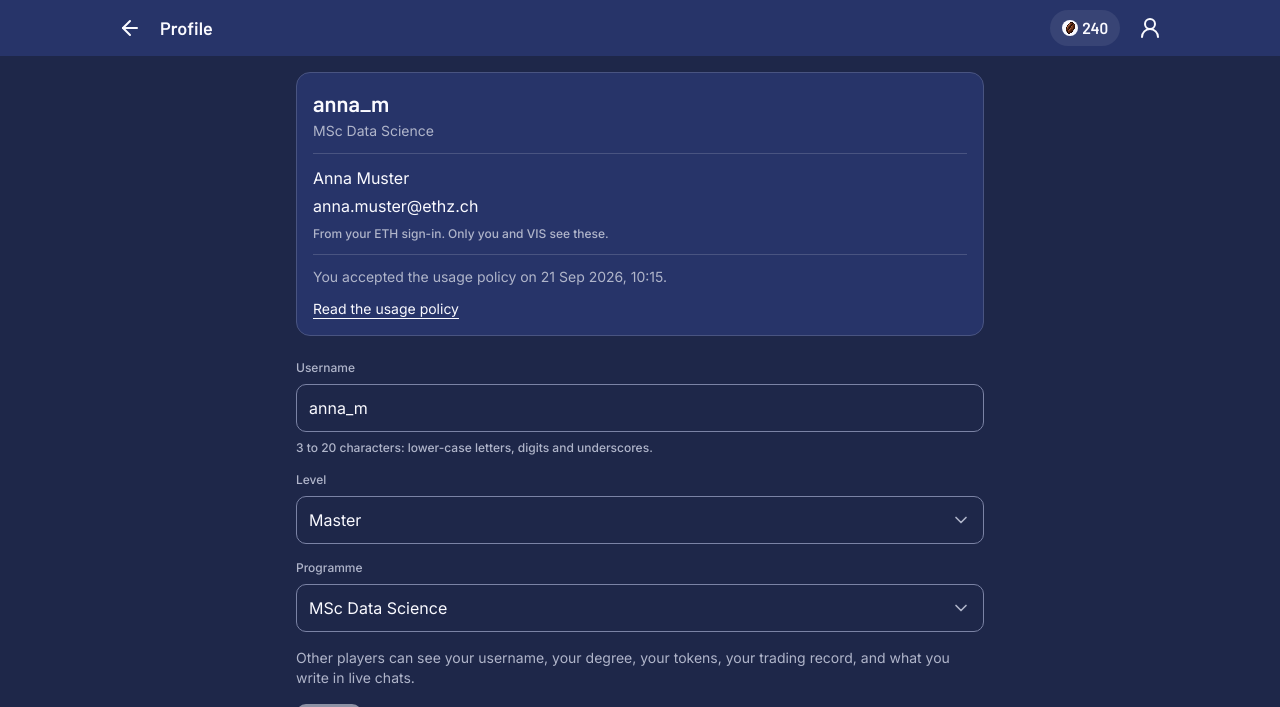
Test case: saving › sends the three fields, says Profile saved, stays on the screen and shows the saved profile
In the field labelled "Username": x=640, y=408 [296,384,984,432], type "2"
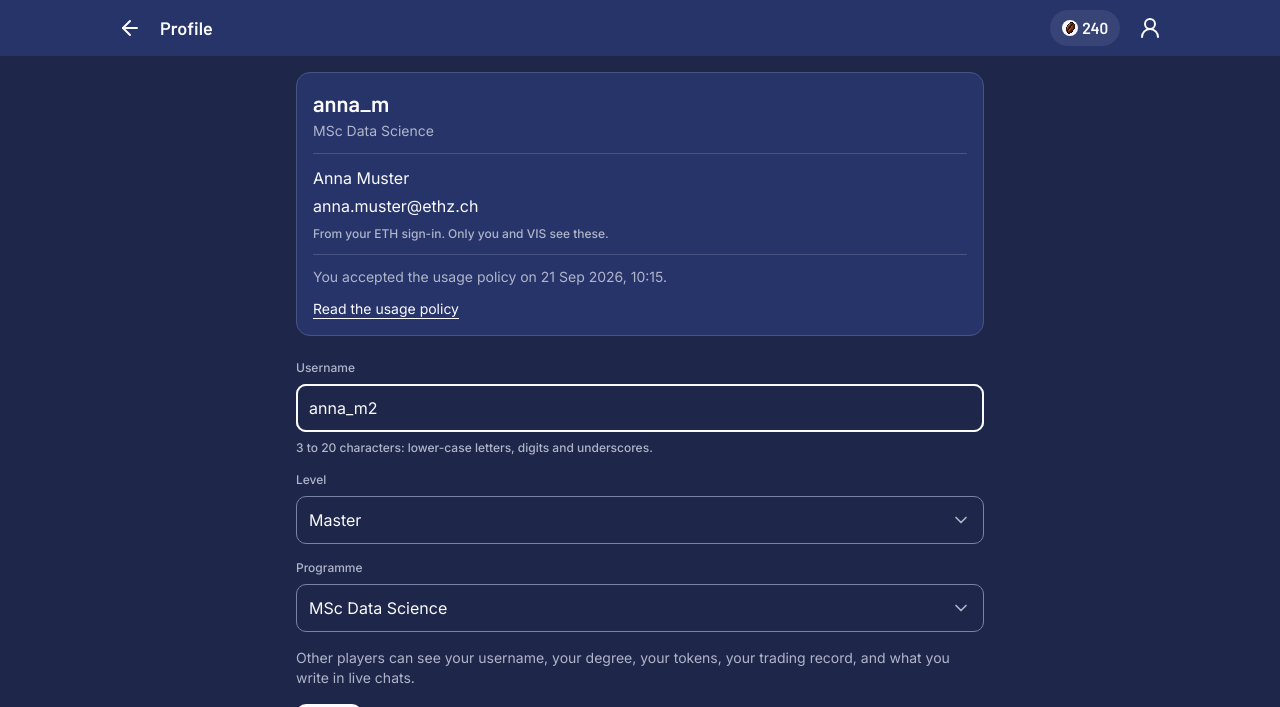
Click the button with aria-label "Programme": x=378, y=608 [296,584,984,632]
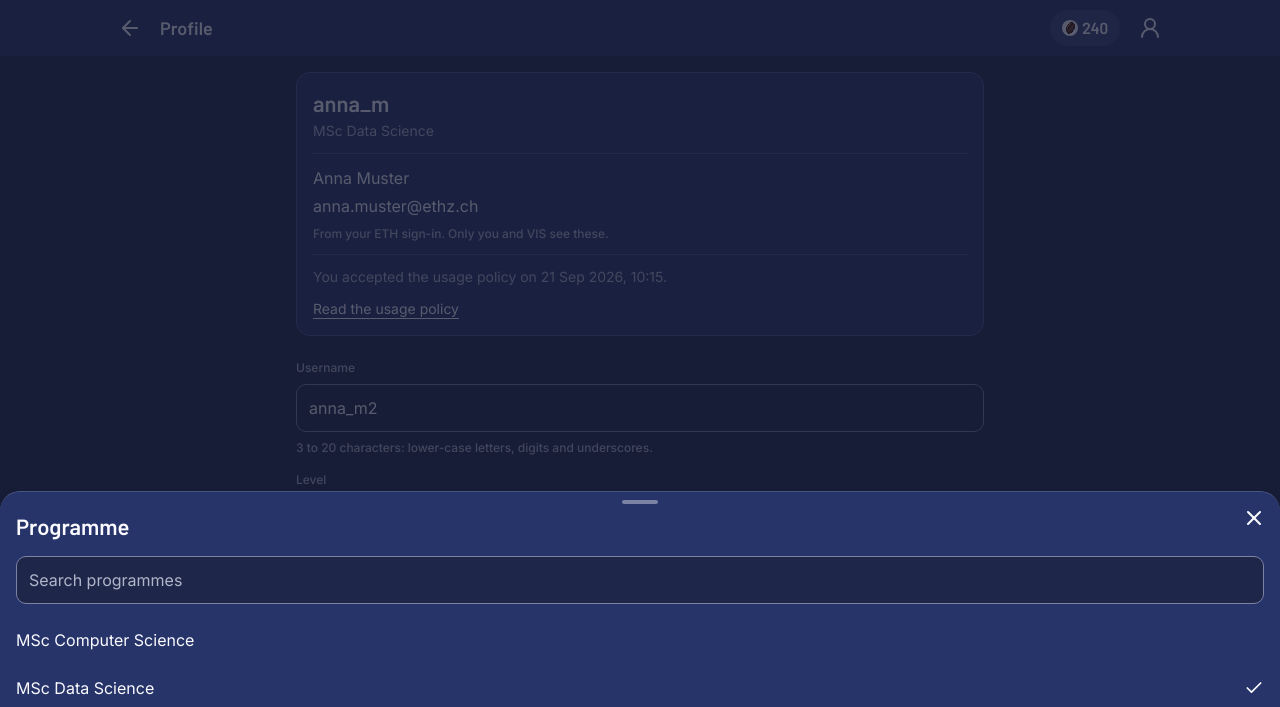
Click the option "MSc Computer Science": x=105, y=640 [16,630,194,650]
(page scrolled)
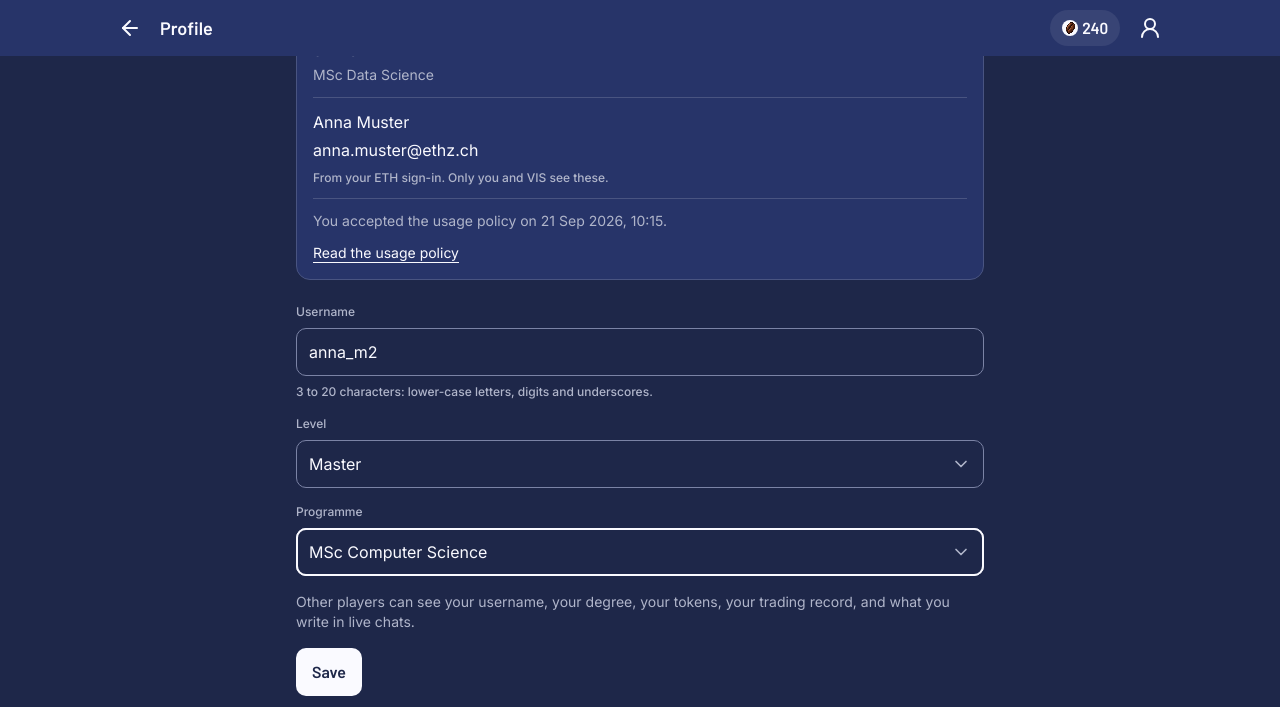
Click the button "Save": x=329, y=672 [296,648,362,696]
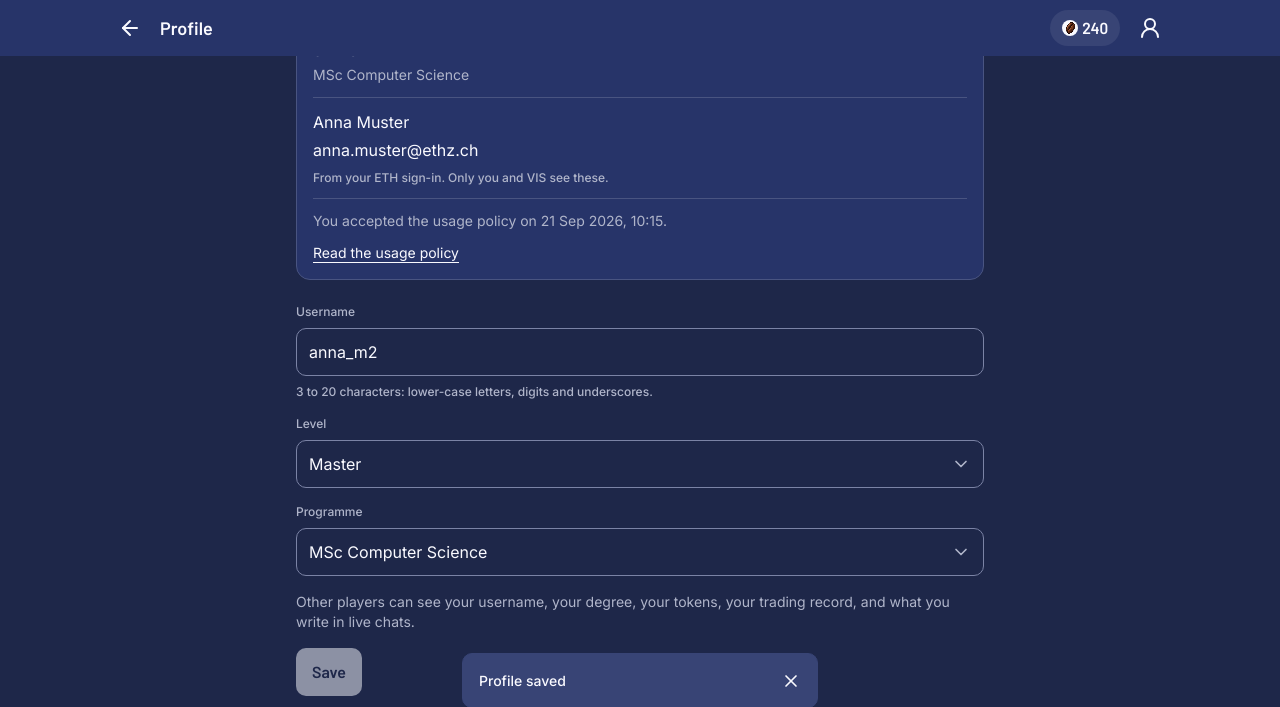
Result: the field labelled "Username" holds "anna_m2" at [296,328,984,376]
Result: the text "Profile saved" is shown at [479,670,566,691]
Result: the text "MSc Computer Science" below "anna_m2" is shown at [313,66,469,83]
